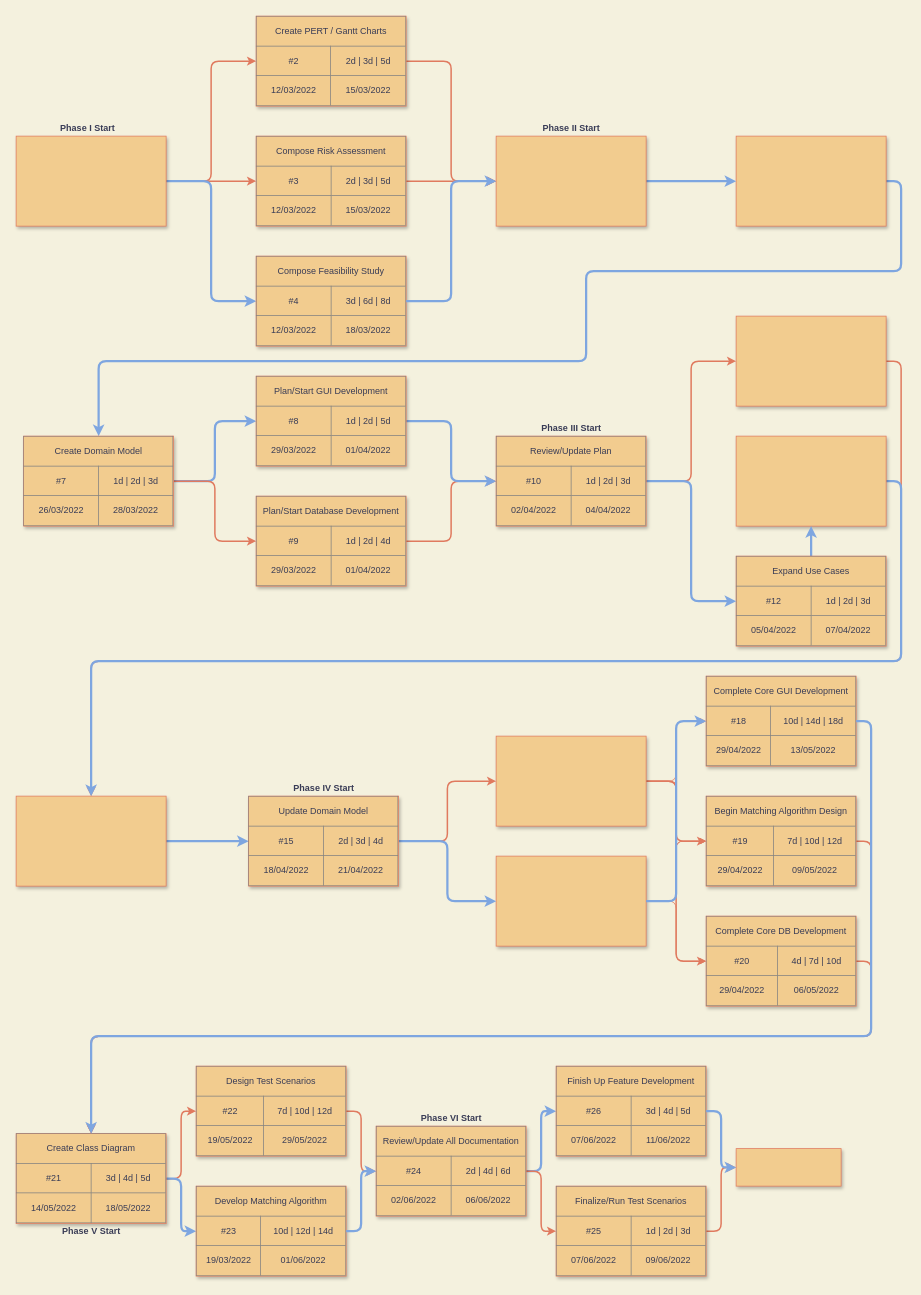
This 921x1295 diagram has some shape labels left out. Each missing label, with the centre of its shape:
"Compose Detailed Description #1 5d | 10d | 14d 01/03/2022 11/03/2022" belongs at [91,181].
"Continue GUI Development #14 4d | 5d | 7d 12/04/2022 17/04/2022" belongs at [91,841].
"Create Sequence Diagrams #17 4d | 6d | 8d 22/04/2022 28/04/2022" belongs at [571,901].
"Describe Basic Use Cases #6 2d | 3d | 5d 22/03/2022 25/03/2022" belongs at [811,181].
"Design Robustness Diagrams #13 2d | 3d | 4d 08/04/2022 11/04/2022" belongs at [811,481].
"Milestone Turn In Assignment" belongs at [789,1168].
"Review/Update Plan #5 1d | 2d | 3d 19/03/2022 21/03/2022" belongs at [571,181].
"Update Domain Model #11 1d | 2d | 3d 05/04/2022 07/04/2022" belongs at [811,361].
"Update Robustness Diagram #16 3d | 5d | 7d 22/04/2022 27/04/2022" belongs at [571,781].
